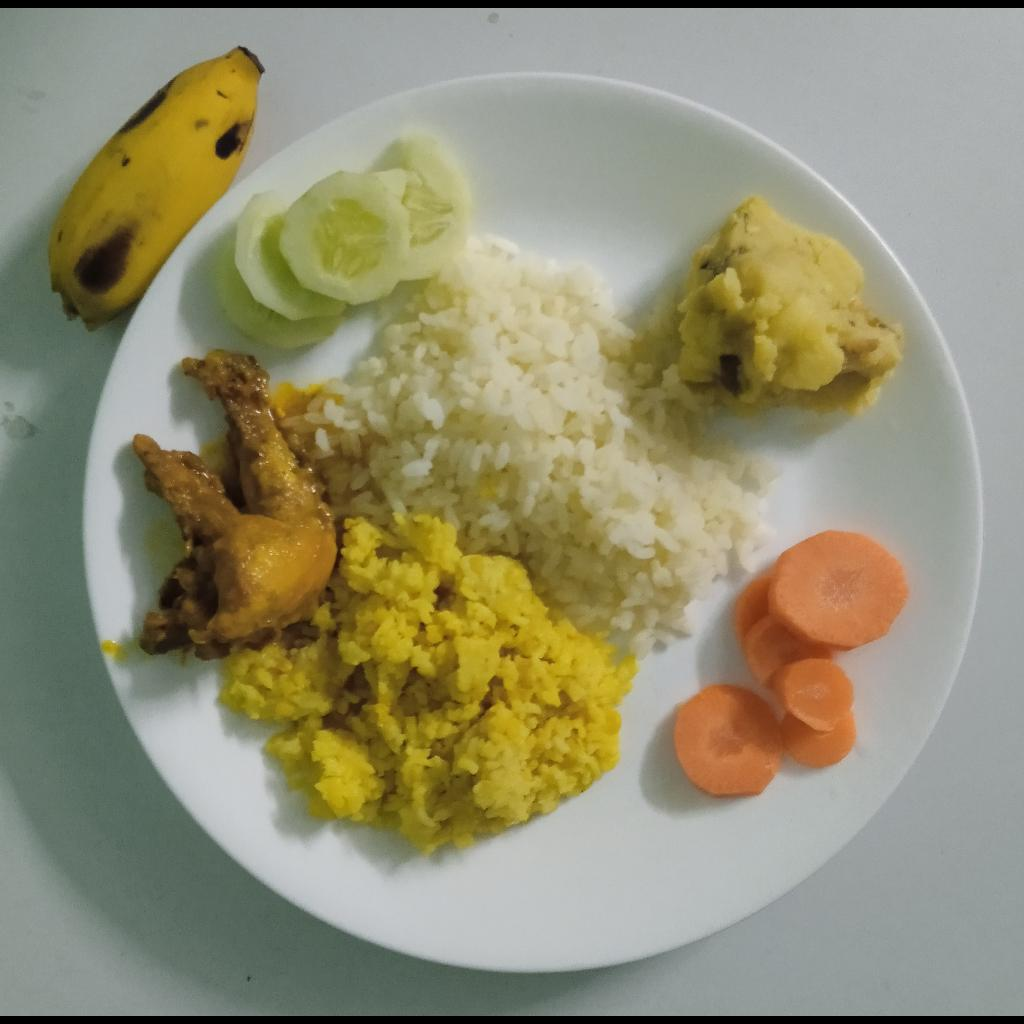banana: (46, 46, 265, 333)
carrot: (672, 532, 911, 794)
chicken: (136, 350, 338, 659)
cucumber: (213, 129, 473, 352)
khichuri: (222, 517, 633, 856)
potato-mashed: (677, 193, 904, 423)
rice: (293, 235, 781, 664)
